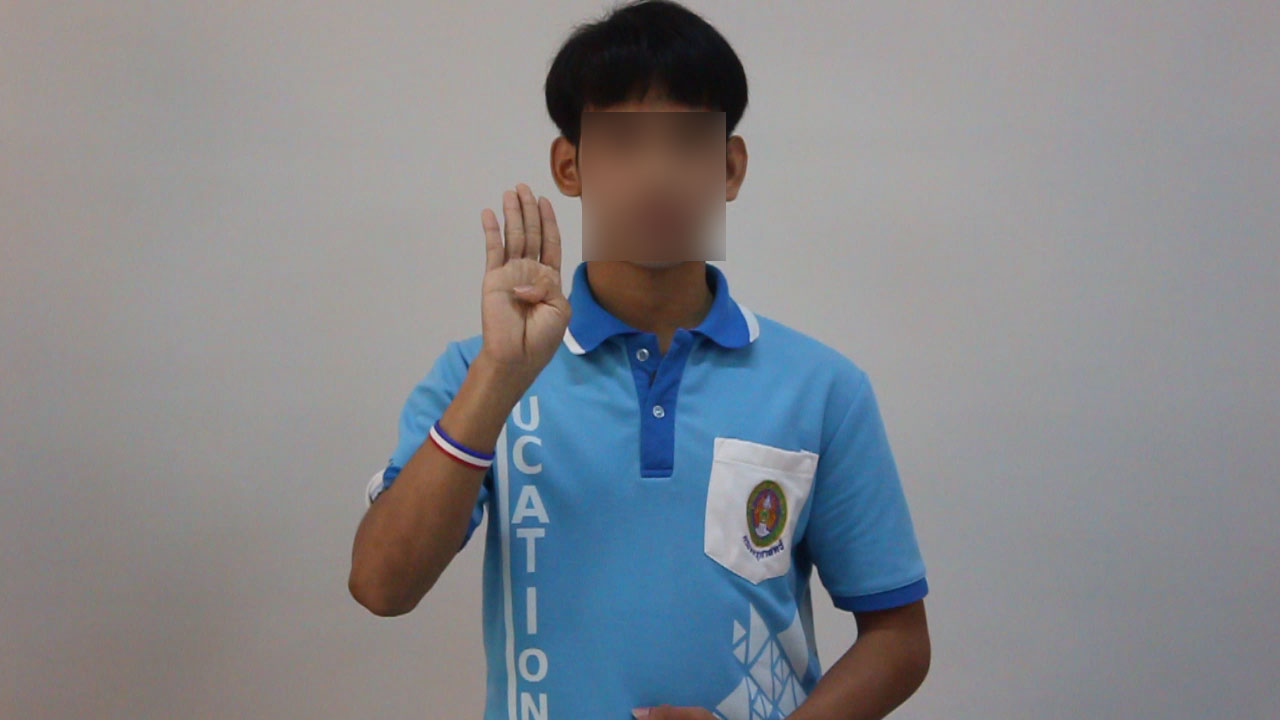bor: (458, 171, 586, 397)
